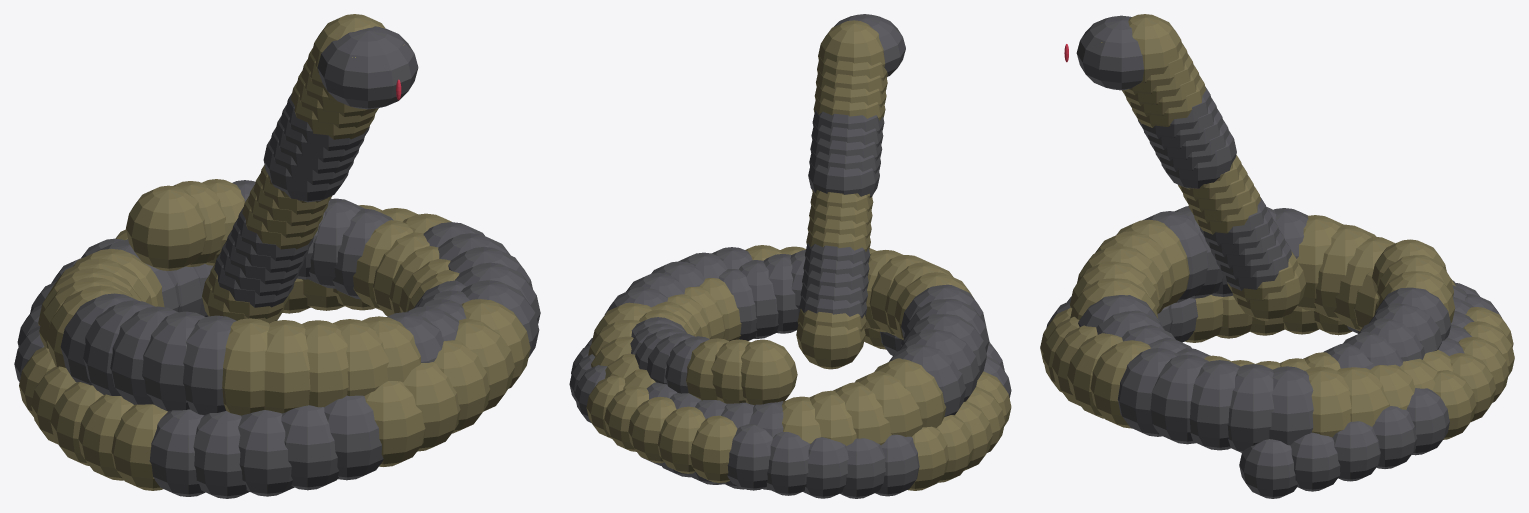
The model's file is Snake_Coil_Dark.glb.
The picture shows the model from 3 angles, left to right: view 1: azimuth 30°, elevation 25°; view 2: azimuth 150°, elevation 25°; view 3: azimuth 270°, elevation 25°; orthographic projection. The views are drawn at different scales.
Parts seen in each view (by area): view 1: Snake_Coil_Dark; view 2: Snake_Coil_Dark; view 3: Snake_Coil_Dark.
Boxes of the visible parts, x1,y1,x2,y2 form: Snake_Coil_Dark: [14, 14, 540, 498]; Snake_Coil_Dark: [569, 14, 1011, 498]; Snake_Coil_Dark: [1040, 14, 1514, 498].
Bounding box in the file's own units: 0.6813 × 0.6182 × 0.668.
